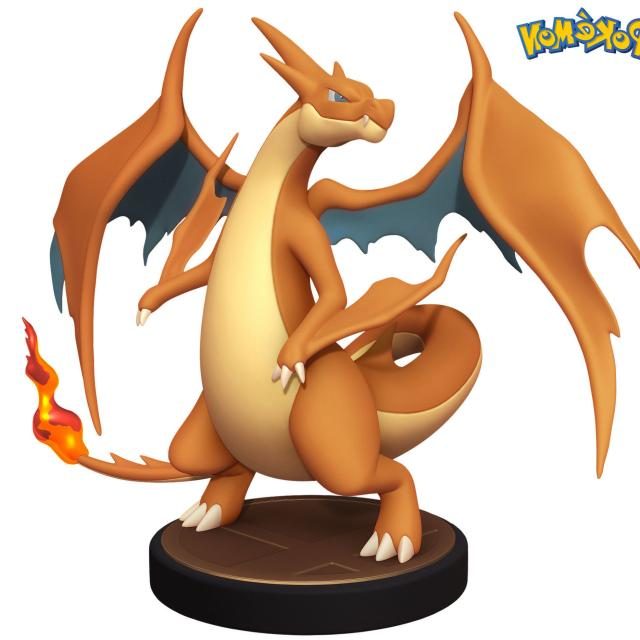Charizard: (164, 16, 461, 546)
